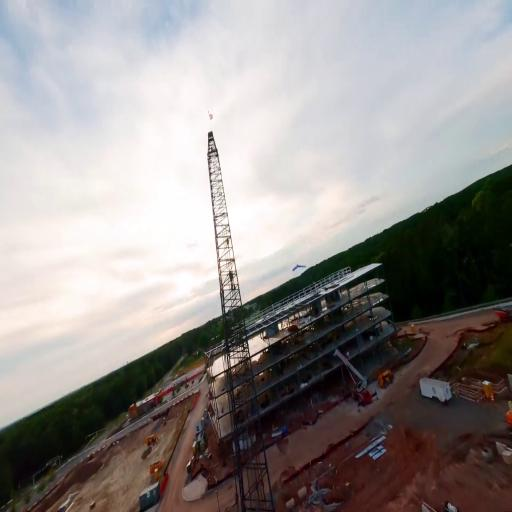uav: (292, 263, 307, 272)
